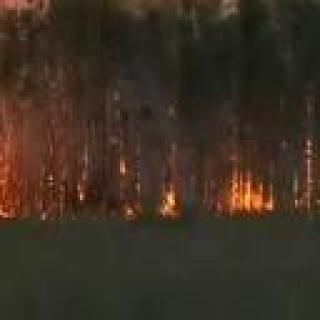fire: (219, 162, 282, 212), (124, 161, 178, 218), (0, 22, 1, 219)
